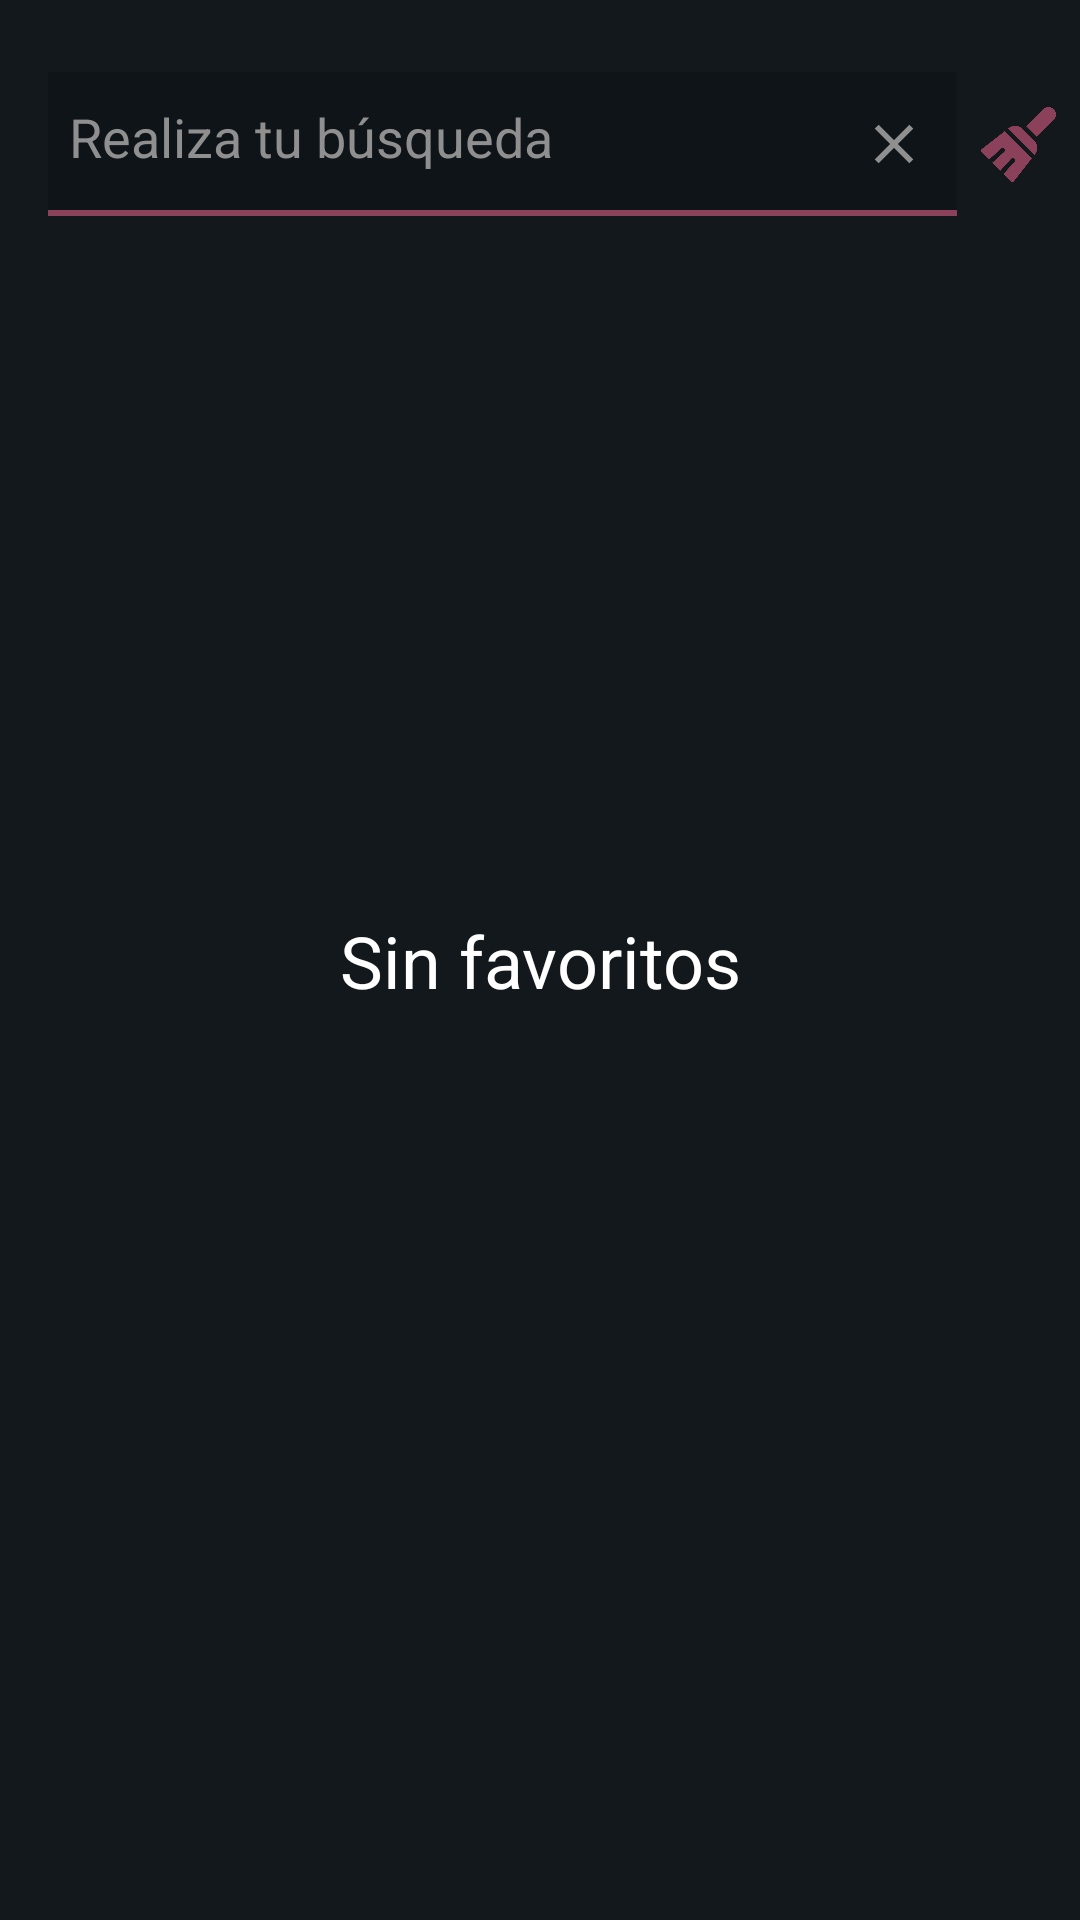

Screen size 1080w x 1920h. Icon name, then its box in pixels as (x1, y1, x2, y2):
brooom: (981, 107, 1056, 182)
